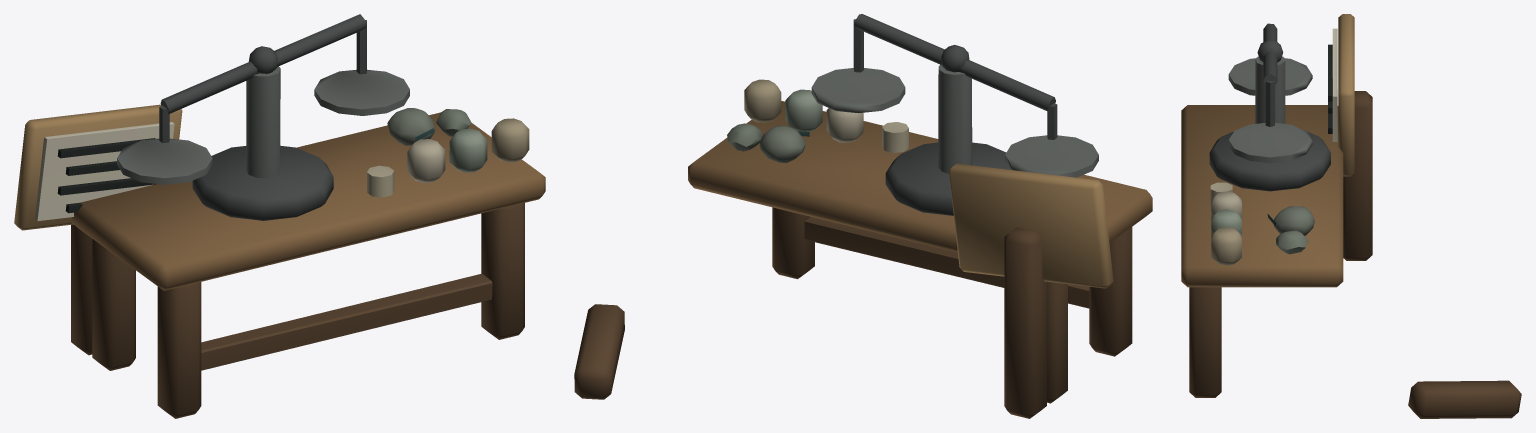
File: assay_bench_b_lod1.glb
3 views of the same model, side by side, from view 1: azimuth 30°, elevation 25°; view 2: azimuth 150°, elevation 25°; view 3: azimuth 270°, elevation 25° (orthographic). The views are drawn at different scales.
Visible parts, largest first — view 1: Surface.001; view 2: Surface.001; view 3: Surface.001.
Part boxes in pixels (x1,y1,x2,y2): Surface.001: [14, 14, 545, 418]; Surface.001: [574, 14, 1152, 418]; Surface.001: [1181, 14, 1521, 418].
Size of the model in its own units: 3.02 by 1.93 by 2.1.
